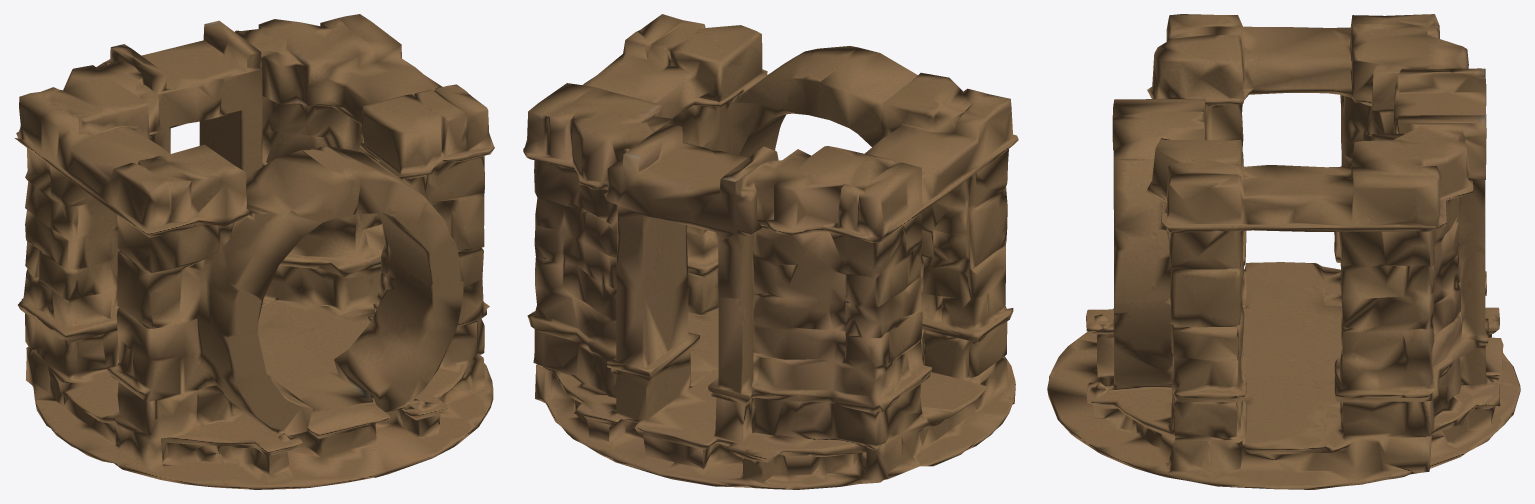
Rendered from ringgate.glb.
3 views of the same model, side by side, from view 1: azimuth 30°, elevation 25°; view 2: azimuth 150°, elevation 25°; view 3: azimuth 270°, elevation 25° (orthographic). The views are drawn at different scales.
Size of the model in its own units: 1.9 by 1.31 by 1.9.
Materials: 1 (1 with a texture image).
